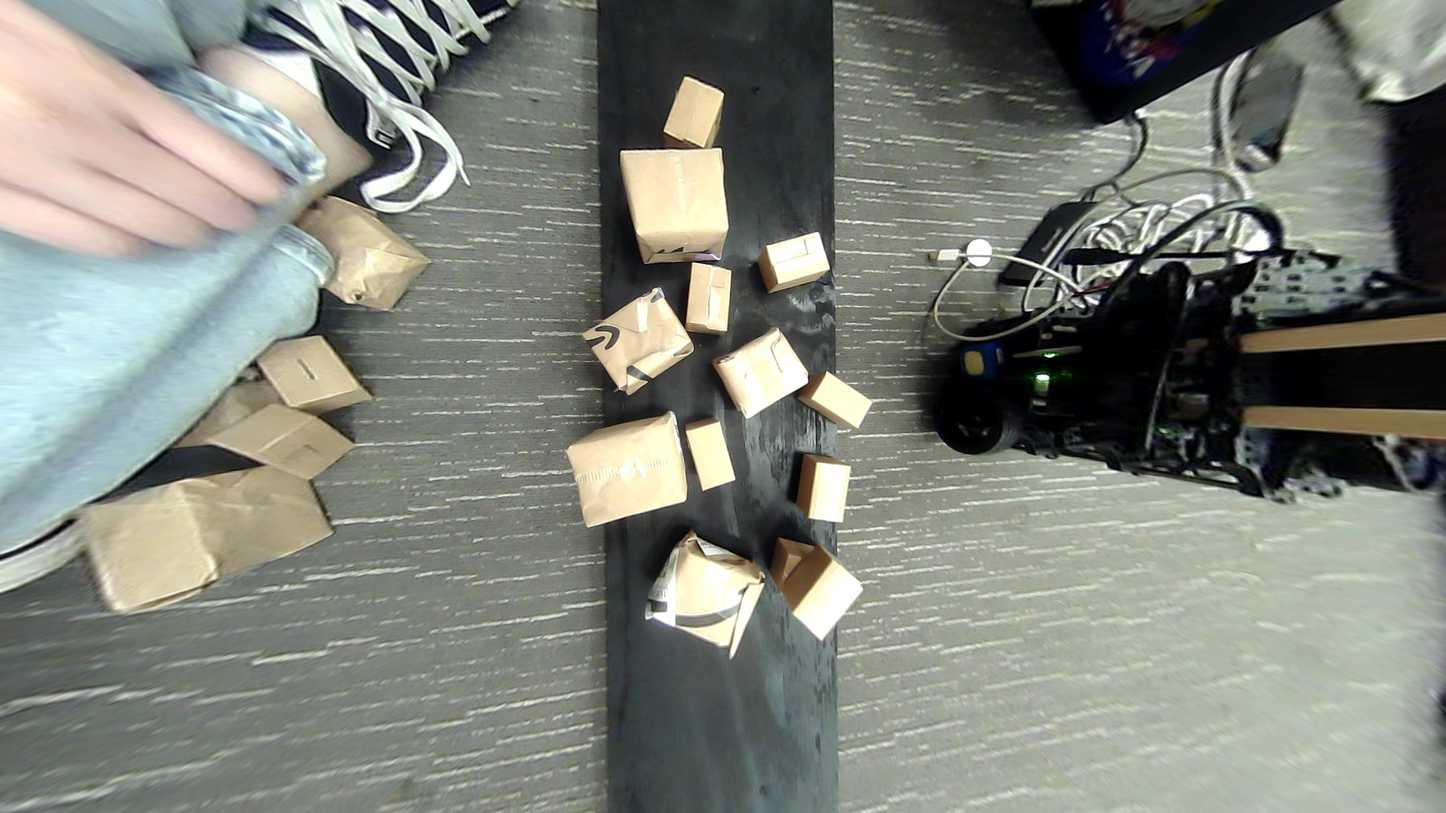empty_space: (723, 10, 849, 214), (724, 668, 829, 799), (621, 671, 722, 800)
package: (629, 528, 761, 662), (630, 134, 736, 276), (557, 407, 697, 498), (770, 525, 852, 643), (575, 300, 693, 373), (709, 340, 808, 426), (781, 434, 859, 517), (677, 251, 737, 342), (676, 406, 734, 489), (664, 74, 725, 149), (817, 355, 873, 425), (759, 243, 834, 284)
poor_spacing: (644, 523, 840, 684), (739, 419, 866, 656), (572, 385, 747, 513), (703, 315, 889, 434), (615, 73, 727, 249), (606, 251, 740, 394)
